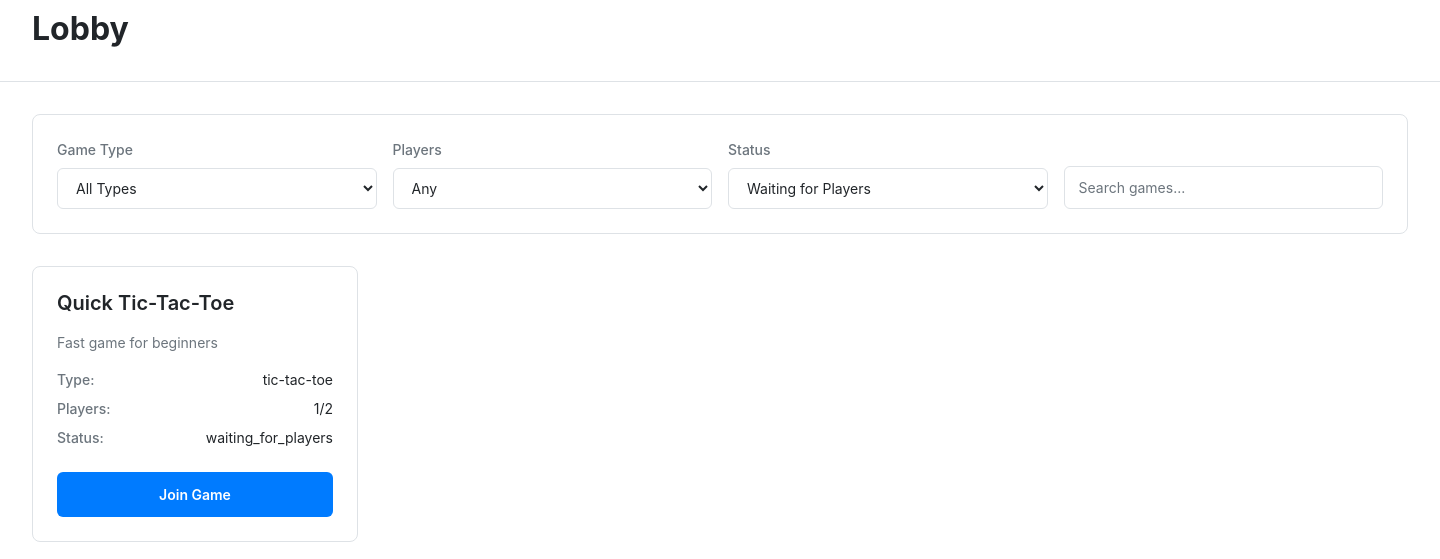
Test: LobbyView › Loading and Empty States › should display empty state when filters match no games
Expected: the heading "Quick Tic-Tac-Toe" is shown, [57,291,234,316]
Note: Search for something that doesn't exist
Type "NonexistentGame" into the field with placeholder "Search games..." at (1223, 188), box [1064,166,1383,209]
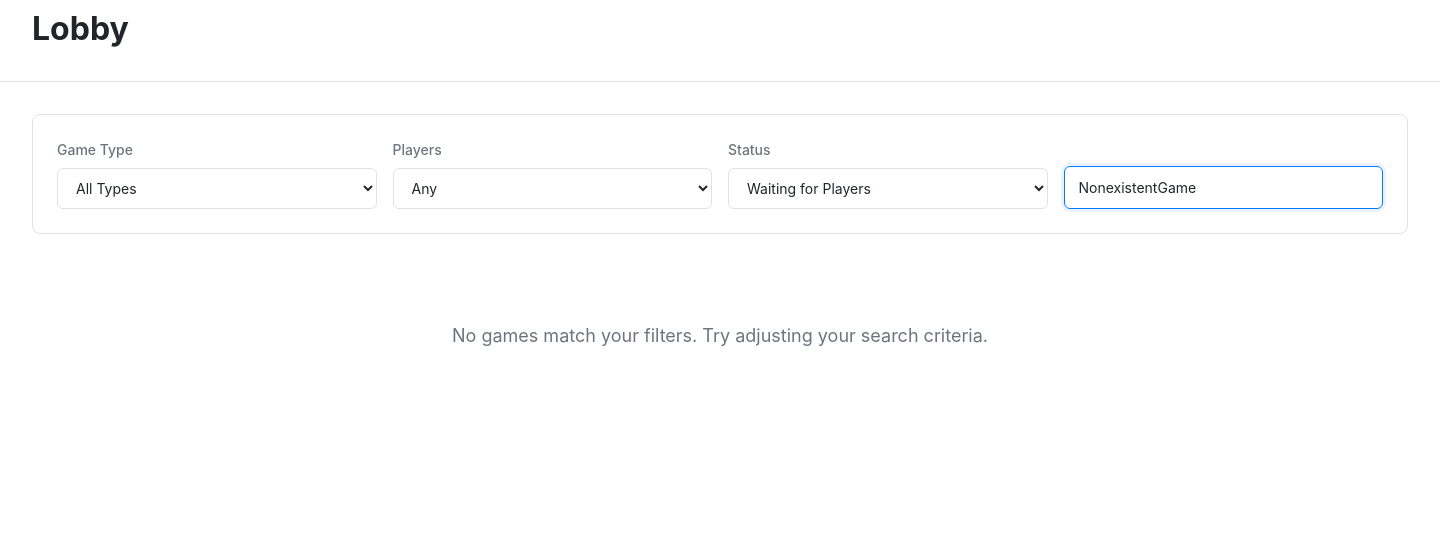
Expected: the text "No games match your filters" is shown, [452,325,988,346]
